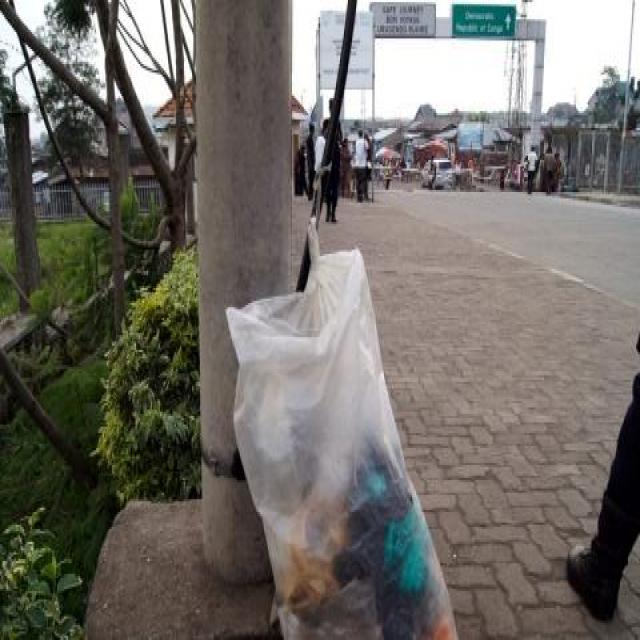plastic_bag: (184, 238, 527, 640)
